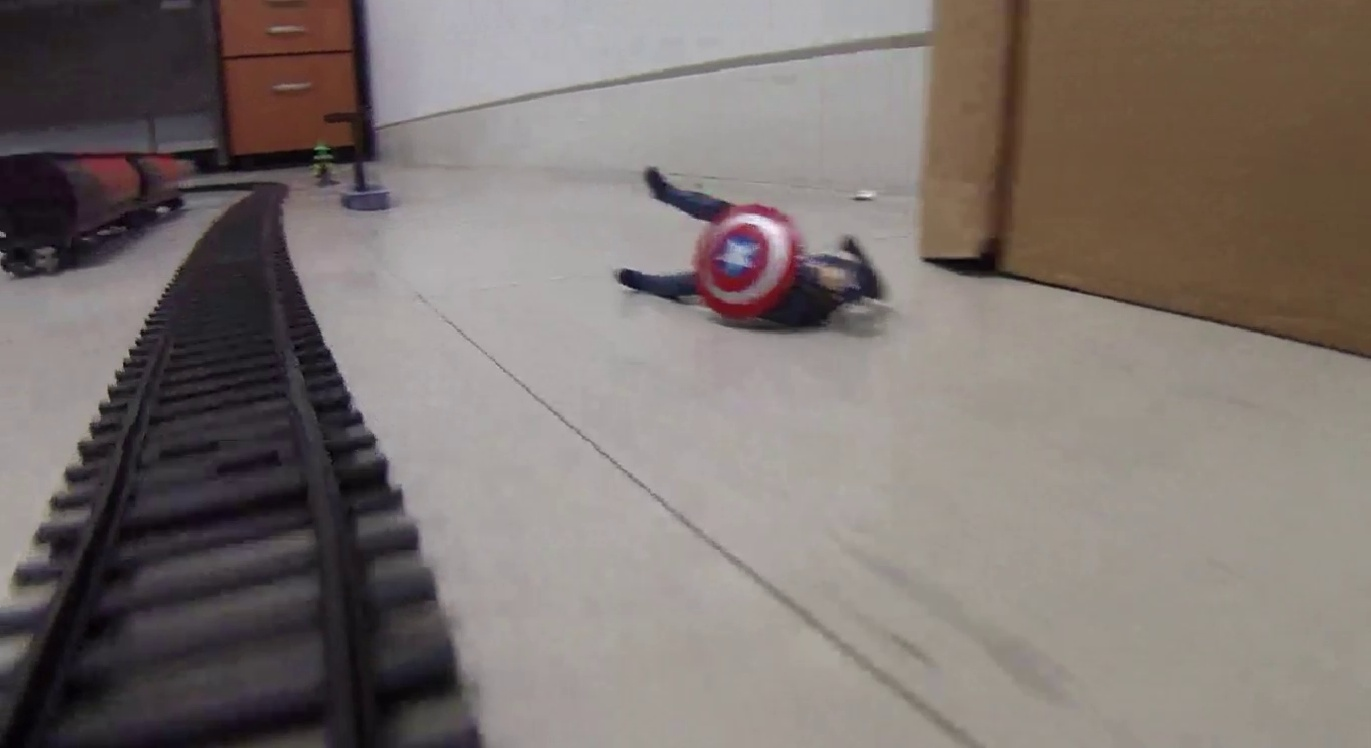people: (615, 167, 889, 329)
